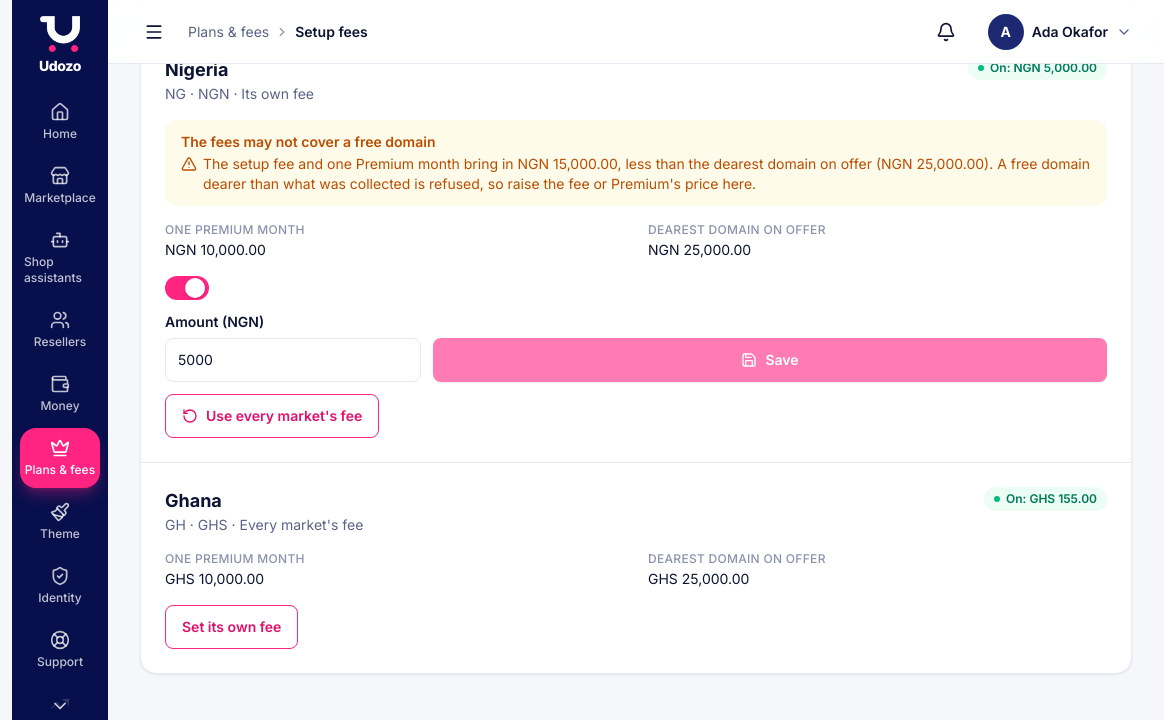
Test: admin.udozo.com › setup fees: the warning when the fee and a Premium month are below the dearest domain, and saving a market's fee
(page scrolled)
Expected: the text "The fees may not cover a free domain" is shown, [181,133,436,150]
Expected: the text "less than the dearest domain on offer" is shown, [203,155,1090,192]
Replace the text in the field labelled "Amount (NGN)" with "20000" at (293, 360), box [165,338,421,382]
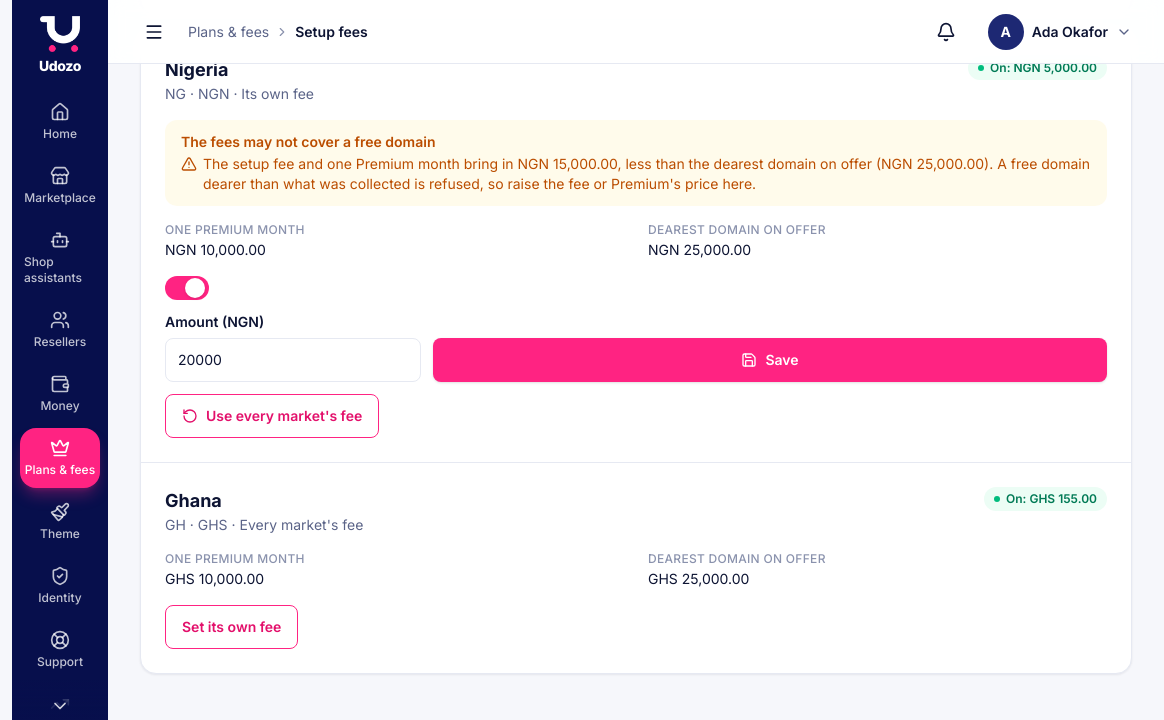
Click the button "Save".
click(770, 360)  # box [433,338,1107,382]
(page scrolled)
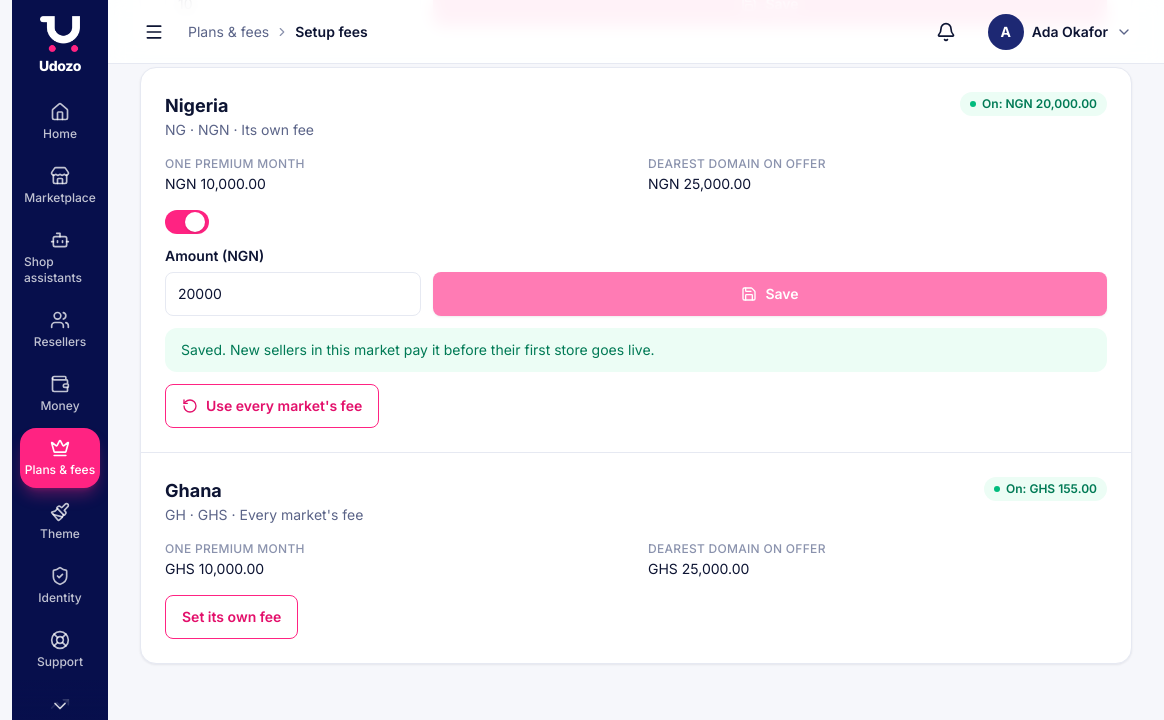
Expected: the text "Saved. New sellers in this market" is shown, [181,341,655,358]
